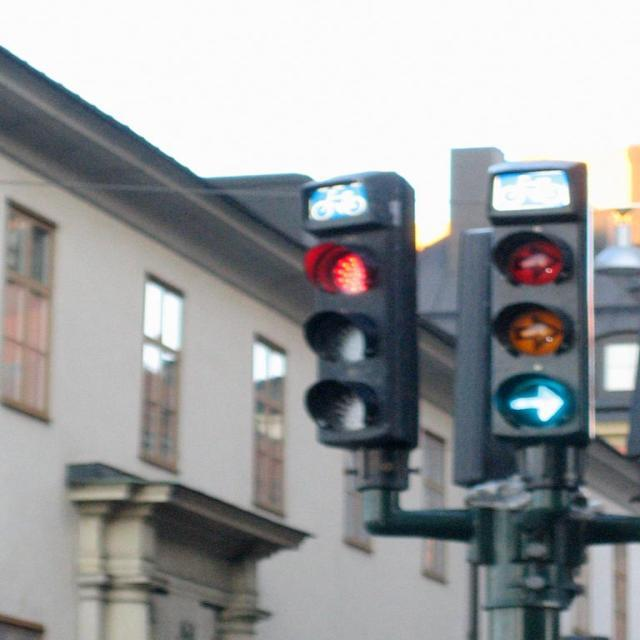traffic light: (479, 217, 588, 447), (288, 233, 390, 440)
